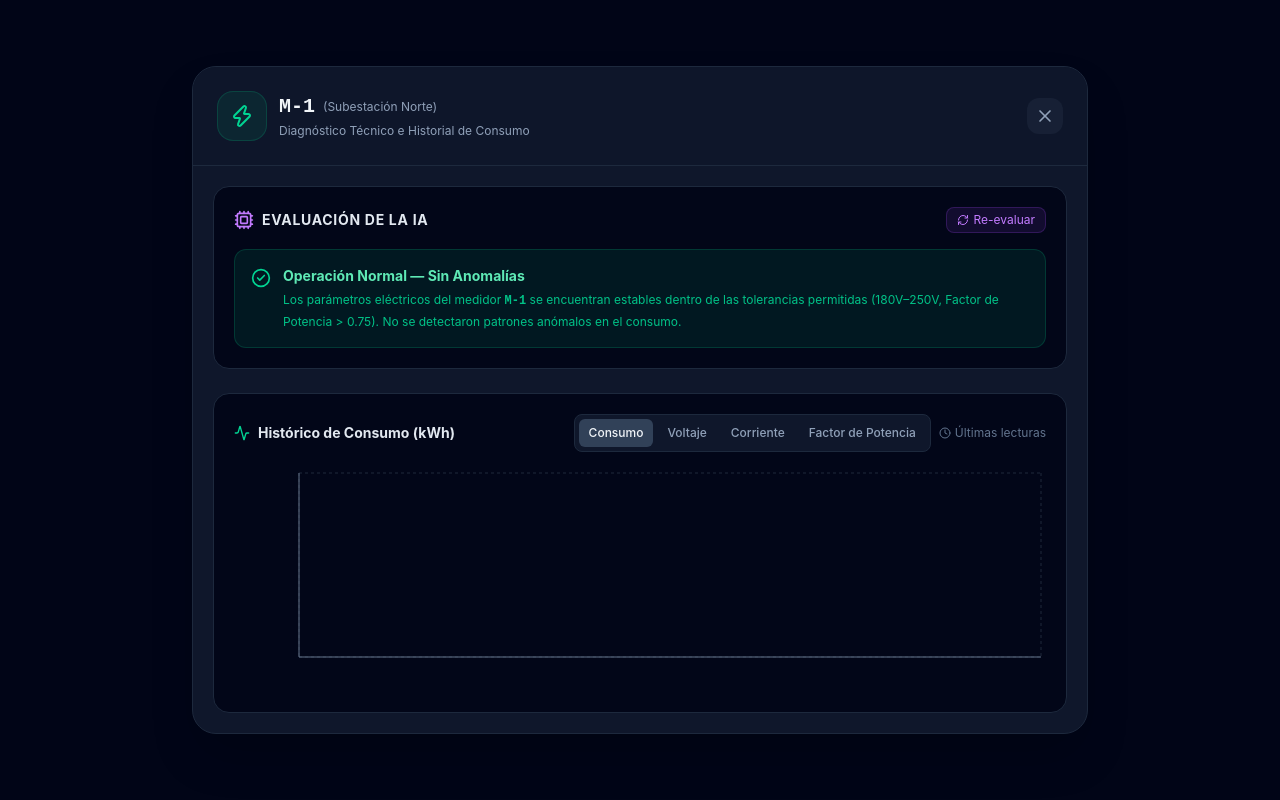
Test: MeterModal › shows the AI error when reevaluation fails
Step 1. Click the button "Re-evaluar" → (996, 220), box [946,207,1046,233]
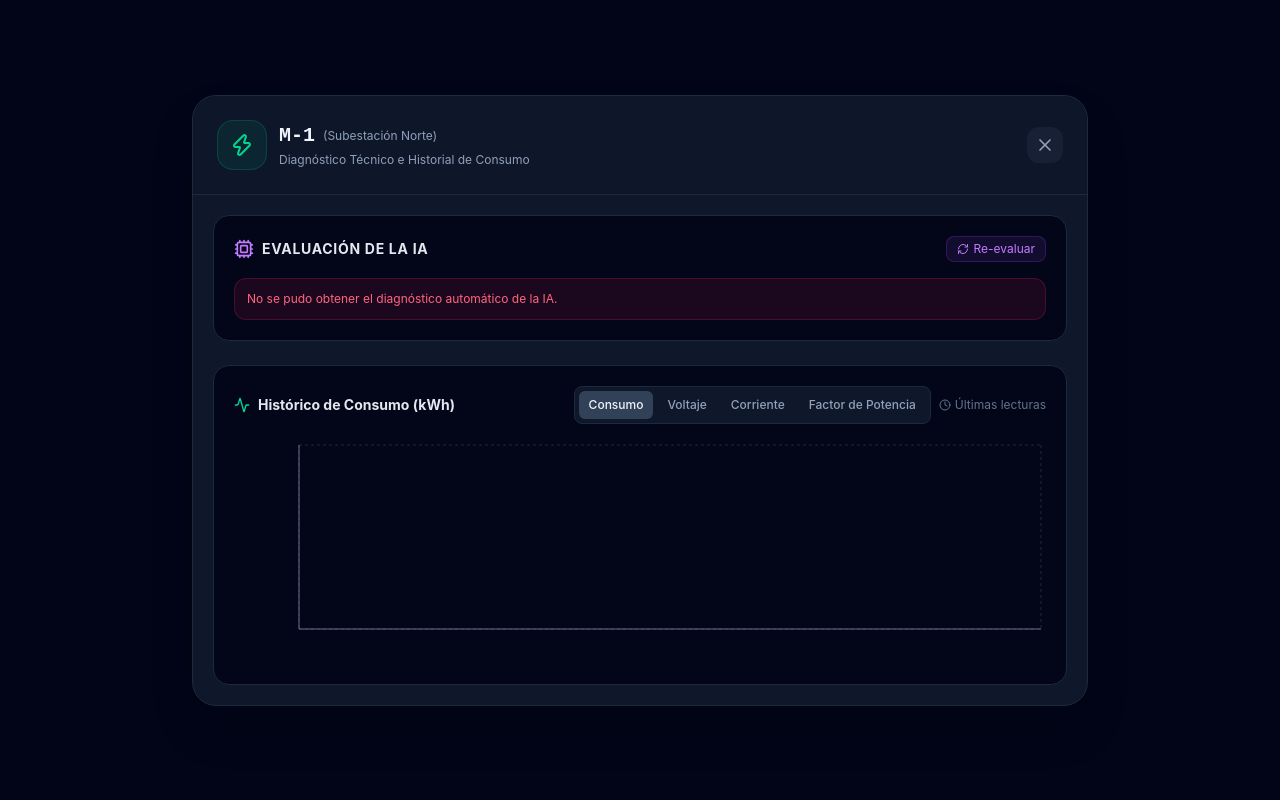
Now the text "No se pudo obtener el diagnóstico automático de la IA." is shown, box [234,278,1046,320]
